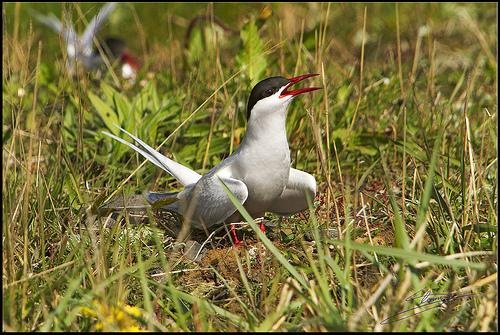bird: (98, 73, 325, 243)
